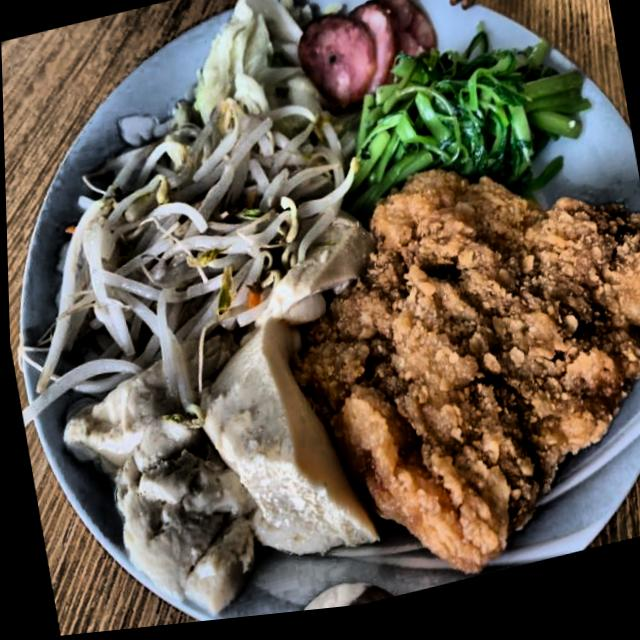Food: (275, 139, 640, 608), (4, 109, 309, 397), (335, 36, 583, 205), (161, 0, 308, 131), (295, 0, 442, 112)
